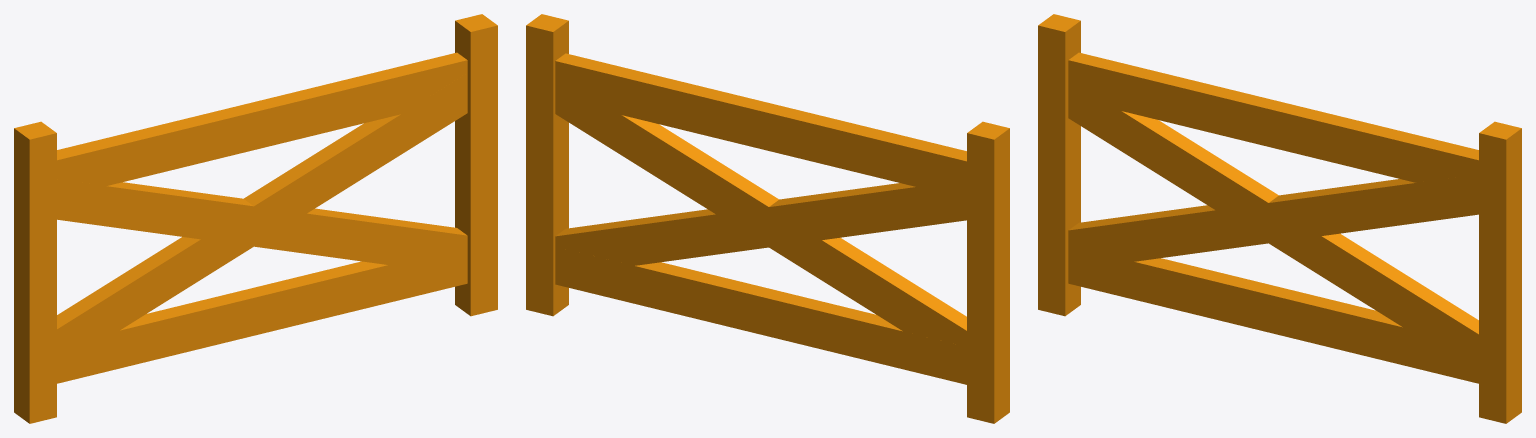
The model's file is cross_fence_4.FBX.
The picture shows the model from 3 angles, left to right: view 1: azimuth 30°, elevation 25°; view 2: azimuth 150°, elevation 25°; view 3: azimuth 330°, elevation 25°; orthographic projection.
Parts seen in each view (by area): view 1: we; view 2: we; view 3: we.
Boxes of the visible parts, x1=… form: we: x1=14, y1=14, x2=497, y2=423; we: x1=526, y1=14, x2=1009, y2=423; we: x1=1038, y1=14, x2=1521, y2=423.
Size of the model in its own units: 1.35 by 0.7815 by 0.0782.
1 material, 1 textured.
